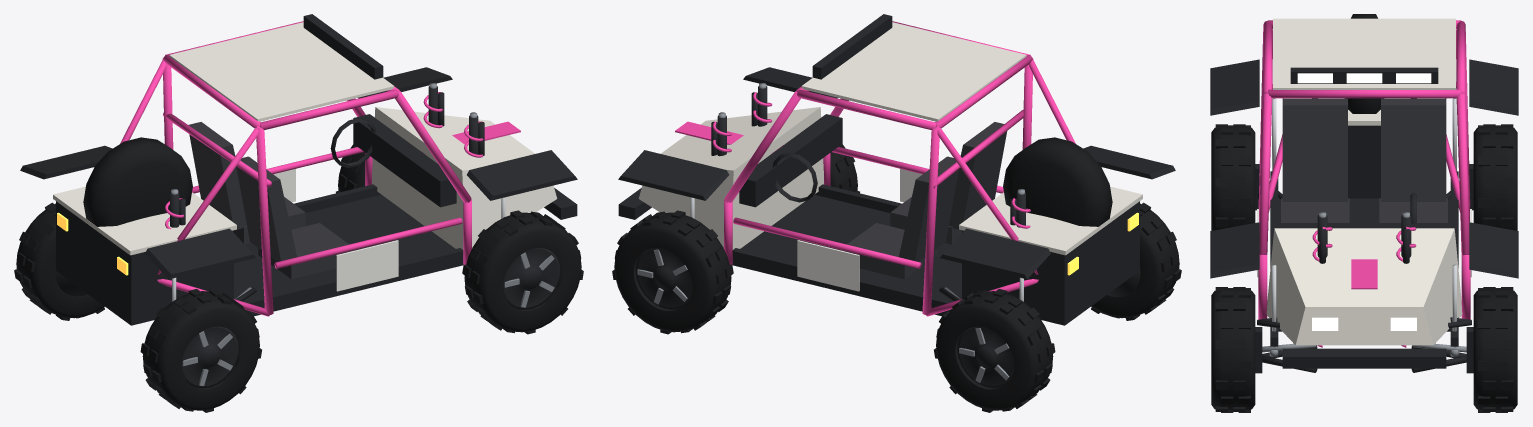
File: truck-sxs.glb
3 views of the same model, side by side, from view 1: azimuth 30°, elevation 25°; view 2: azimuth 150°, elevation 25°; view 3: azimuth 270°, elevation 25° (orthographic). The views are drawn at different scales.
Visible parts, largest first — view 1: BodyShell, Wheel_RR, Wheel_FR, Wheel_RL, Wheel_FL, ShockBody_FL, ShockBody_FR; view 2: BodyShell, Wheel_RL, Wheel_FL, Wheel_RR, Wheel_FR, ShockBody_FR, ShockBody_FL; view 3: BodyShell, Wheel_FL, Wheel_FR, Wheel_RL, Wheel_RR, Arm_FL, Arm_FR, ShockBody_FR, ShockBody_FL, ShockShaft_FL, ShockShaft_FR, Upright_FL (+3 smaller).
Boxes of the visible parts, left/top/right/bottom form: BodyShell: left=20, top=14, right=577, bottom=325; Wheel_RR: left=140, top=289, right=261, bottom=412; Wheel_FR: left=462, top=210, right=583, bottom=334; Wheel_RL: left=14, top=202, right=104, bottom=320; Wheel_FL: left=336, top=144, right=365, bottom=193; ShockBody_FL: left=428, top=83, right=444, bottom=126; ShockBody_FR: left=469, top=112, right=484, bottom=155; BodyShell: left=618, top=14, right=1175, bottom=325; Wheel_RL: left=934, top=289, right=1055, bottom=412; Wheel_FL: left=612, top=210, right=733, bottom=334; Wheel_RR: left=1091, top=202, right=1181, bottom=320; Wheel_FR: left=830, top=144, right=859, bottom=193; ShockBody_FR: left=751, top=83, right=767, bottom=126; ShockBody_FL: left=711, top=112, right=726, bottom=156; BodyShell: left=1210, top=14, right=1518, bottom=368; Wheel_FL: left=1473, top=287, right=1517, bottom=412; Wheel_FR: left=1211, top=287, right=1255, bottom=412; Wheel_RL: left=1473, top=124, right=1517, bottom=230; Wheel_RR: left=1211, top=124, right=1255, bottom=230; Arm_FL: left=1411, top=317, right=1471, bottom=372; Arm_FR: left=1257, top=317, right=1317, bottom=372; ShockBody_FR: left=1317, top=212, right=1327, bottom=263; ShockBody_FL: left=1401, top=212, right=1411, bottom=263; ShockShaft_FL: left=1450, top=264, right=1459, bottom=357; ShockShaft_FR: left=1269, top=264, right=1278, bottom=357; Upright_FL: left=1466, top=327, right=1473, bottom=373.
Size of the model in its own units: 3.3 by 1.87 by 1.88.
